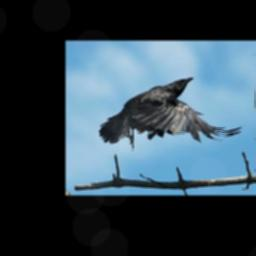Crow: (101, 76, 245, 151)
